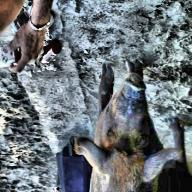boar: (67, 55, 176, 192)
